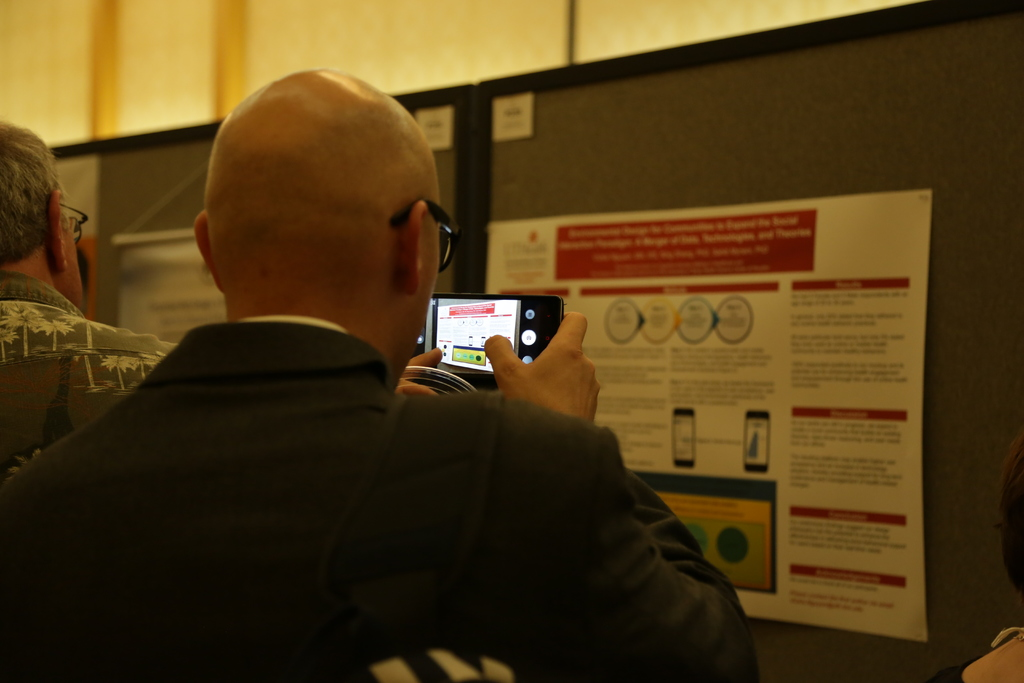Mobile-phone: (423, 291, 569, 380), (741, 407, 771, 472), (671, 407, 698, 468)
